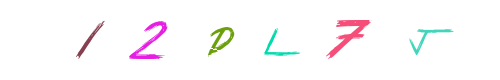1: (110, 0, 190, 80)
2: (140, 0, 220, 80)
7: (294, 0, 374, 80)
D: (179, 0, 259, 80)
J: (311, 0, 391, 80)
L: (209, 0, 289, 80)
